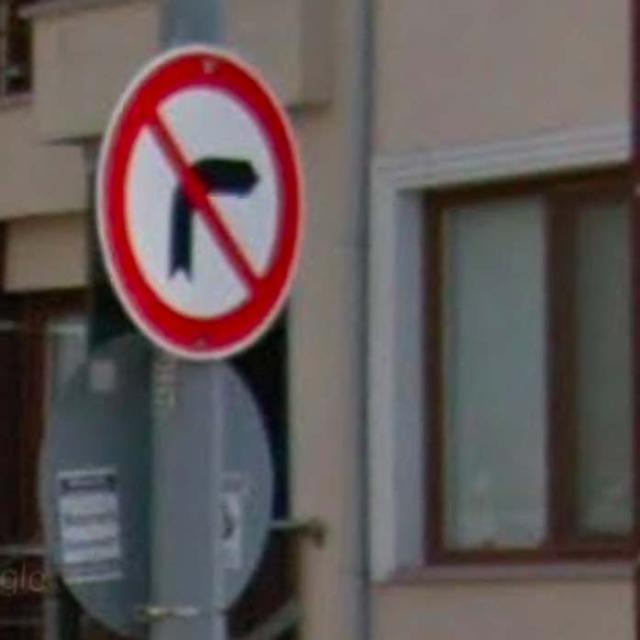sagadonulmez: (98, 45, 302, 363)
